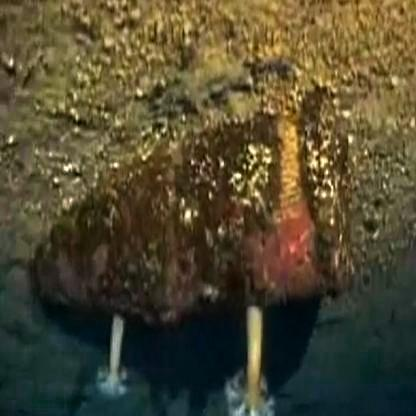gbottle: (39, 132, 337, 339)
